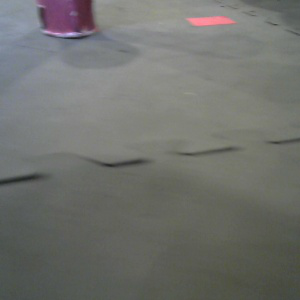right: (28, 1, 102, 41)
